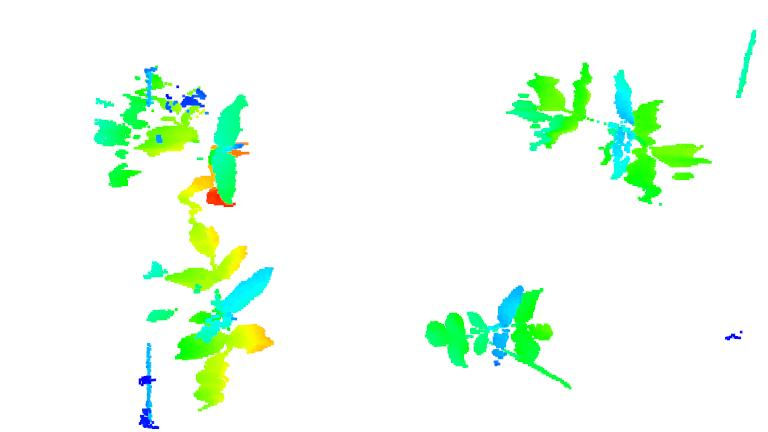mungbean: (509, 53, 712, 205), (169, 218, 279, 406), (422, 286, 570, 372), (202, 86, 271, 201)
